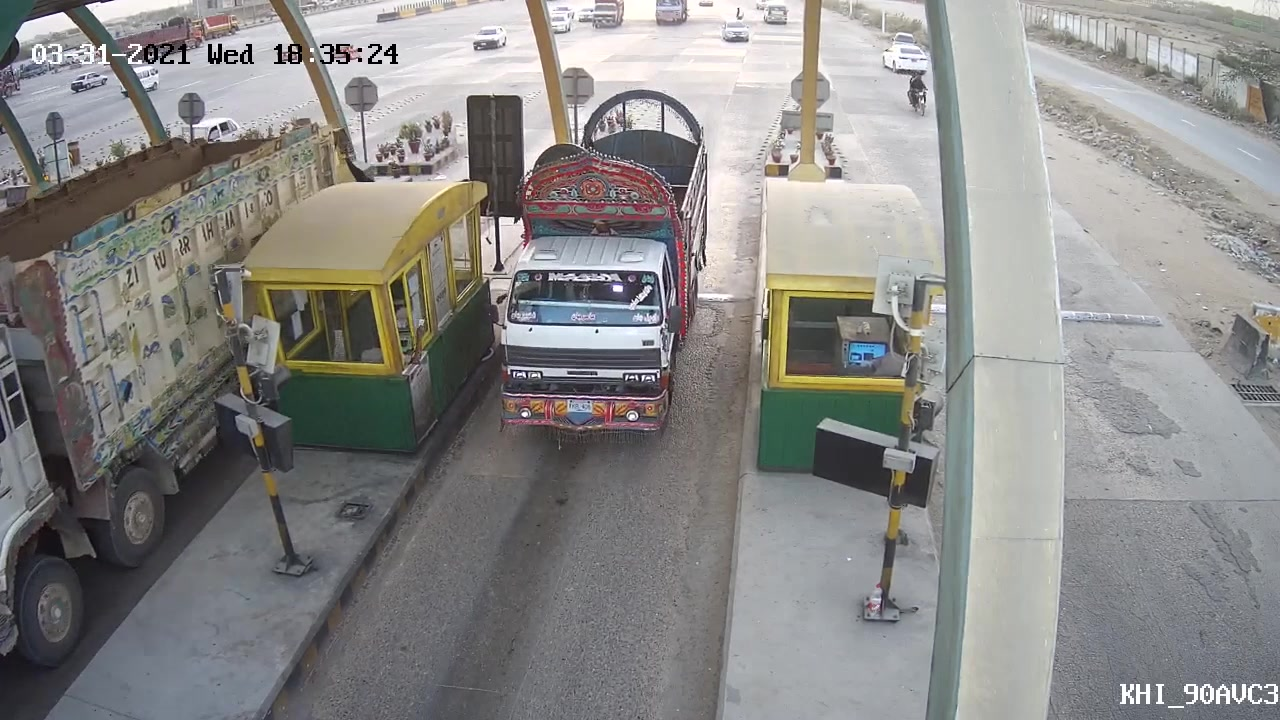F5: (481, 91, 720, 449)
